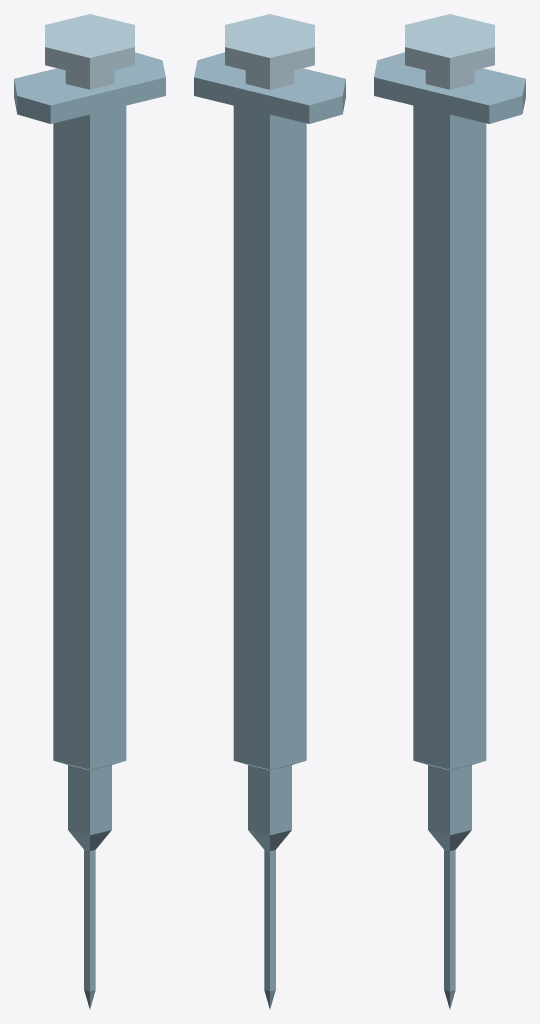
The model's file is SM_Prop_Syringe_01.fbx.
The picture shows the model from 3 angles, left to right: view 1: azimuth 30°, elevation 25°; view 2: azimuth 150°, elevation 25°; view 3: azimuth 330°, elevation 25°; orthographic projection.
Visible parts, largest first — view 1: SM_Prop_Syringe_01; view 2: SM_Prop_Syringe_01; view 3: SM_Prop_Syringe_01.
Part boxes in pixels (<box>): SM_Prop_Syringe_01: <box>14,14,165,1009</box>; SM_Prop_Syringe_01: <box>194,14,345,1009</box>; SM_Prop_Syringe_01: <box>374,14,525,1009</box>.
Size of the model in its own units: 4.43 by 28.36 by 2.38.
